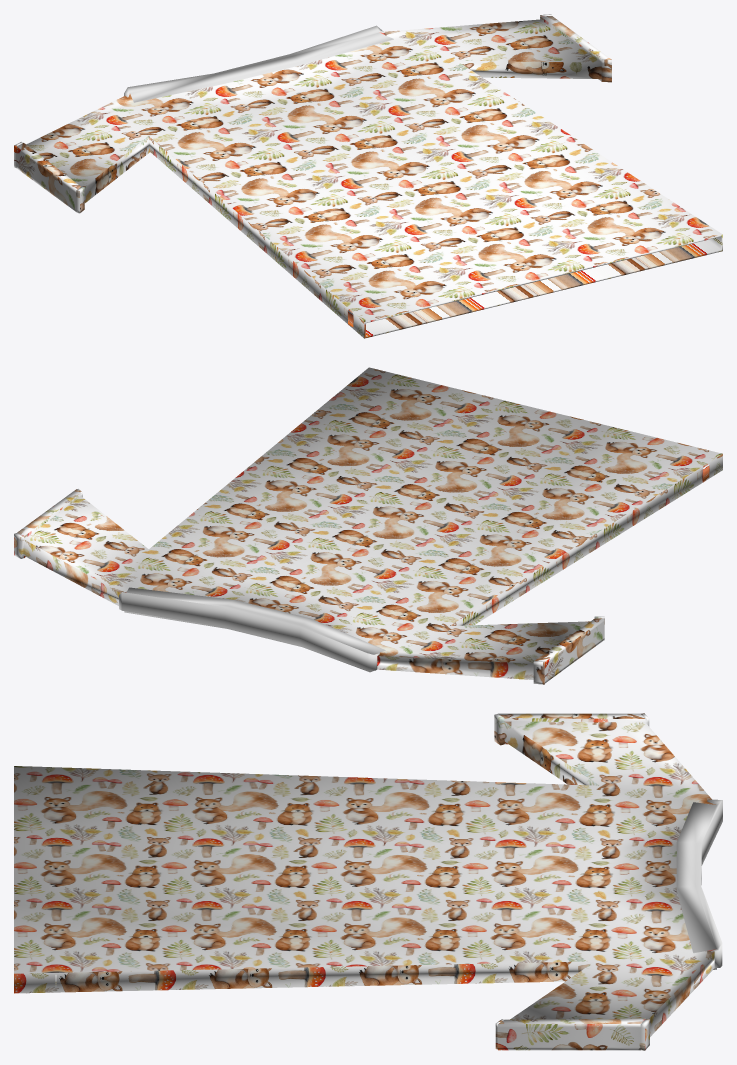
The model's file is shirt4.fbx.
3 renders of one model, top to bottom at view 1: azimuth 30°, elevation 25°; view 2: azimuth 150°, elevation 25°; view 3: azimuth 270°, elevation 25°, orthographic. The views are drawn at different scales.
Visible parts, largest first — view 1: shirt4; view 2: shirt4; view 3: shirt4.
Part boxes in pixels (box(x1,y1,x2,y2)): shirt4: box(14, 14, 722, 338); shirt4: box(14, 367, 722, 684); shirt4: box(14, 713, 722, 1050).
Bounding box in the file's own units: 0.678 × 0.0286 × 0.6519.
Materials: 2 (1 with a texture image).
